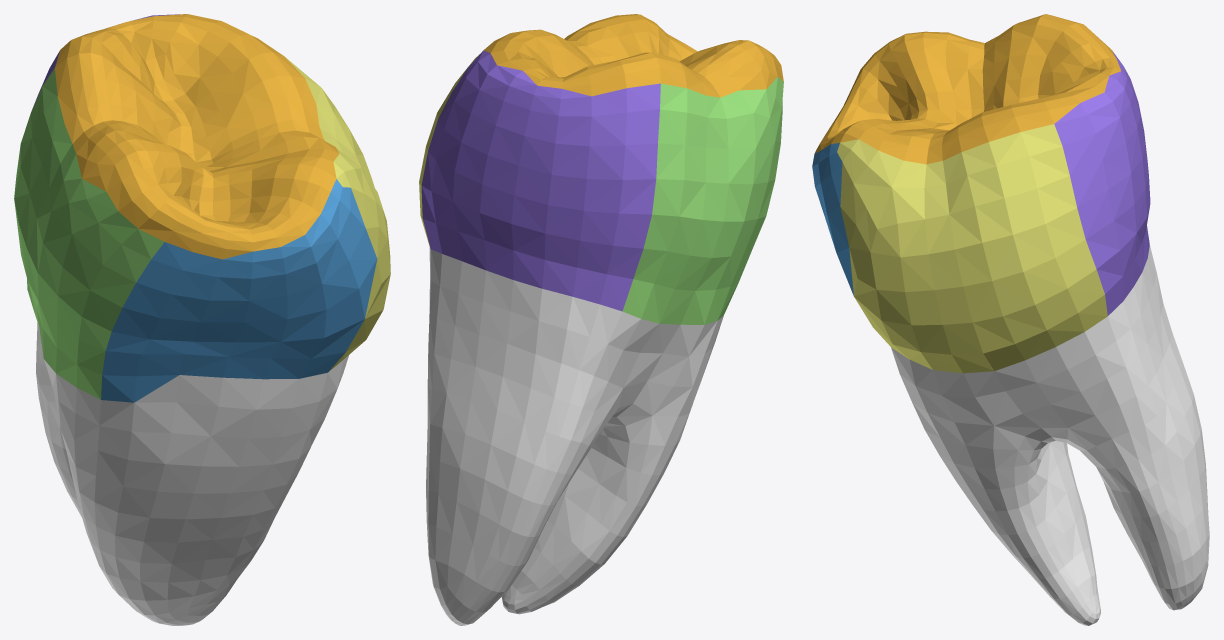
File: tooth_37_annotated.glb
The picture shows the model from 3 angles, left to right: view 1: azimuth 30°, elevation 25°; view 2: azimuth 150°, elevation 25°; view 3: azimuth 270°, elevation 25°; orthographic projection. The views are drawn at different scales.
Parts seen in each view (by area): view 1: FDI_37; view 2: FDI_37; view 3: FDI_37.
Part boxes in pixels (x1=…): FDI_37: x1=14, y1=14, x2=390, y2=625; FDI_37: x1=419, y1=14, x2=783, y2=625; FDI_37: x1=812, y1=14, x2=1209, y2=625.
Bounding box in the file's own units: 0.00975 × 0.0176 × 0.0115.
